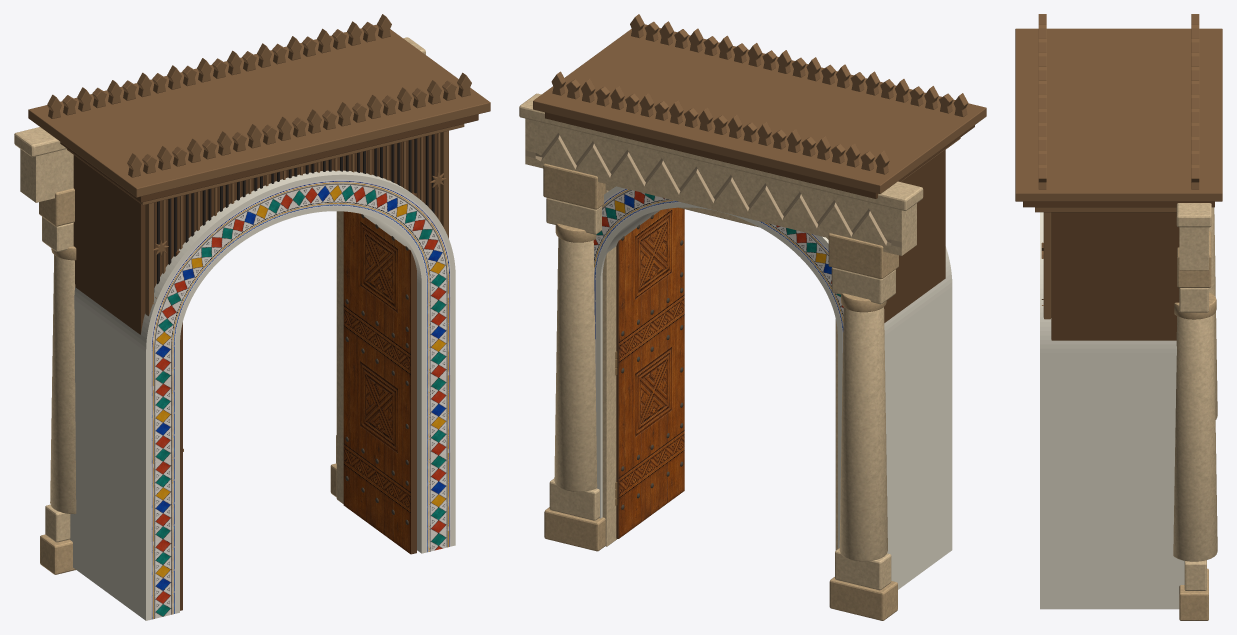
File: gate.glb
3 renders of one model, left to right at view 1: azimuth 30°, elevation 25°; view 2: azimuth 150°, elevation 25°; view 3: azimuth 270°, elevation 25°, orthographic. The views are drawn at different scales.
Visible parts, largest first — view 1: RIJAL GATE | painted continuous U fascia, REAR GATE | 07 layered cornice, diriyah_door_east, REAR GATE | 08 carved crest, REAR GATE | 01 jambs, DIRIYAH GATE | left tapered round column, REAR GATE | 06 fine timber fluting.001, REAR GATE | 05 upper spandrel, REAR GATE | 07 layered cornice.001, DIRIYAH GATE | incised zigzag lintel, DIRIYAH GATE | right wall-jamb return, REAR GATE | 06 fine timber fluting (+7 smaller); view 2: REAR GATE | 07 layered cornice, RIJAL GATE | painted continuous U fascia, diriyah_door_east, DIRIYAH GATE | incised zigzag lintel, DIRIYAH GATE | left tapered round column, REAR GATE | 08 carved crest, DIRIYAH GATE | right tapered round column, REAR GATE | 01 jambs, DIRIYAH GATE | right wall-jamb return, DIRIYAH GATE | top course, REAR GATE | 07 layered cornice.001, DIRIYAH GATE | left capital crown (+8 smaller); view 3: RIJAL GATE | painted continuous U fascia, REAR GATE | 07 layered cornice, REAR GATE | 01 jambs, DIRIYAH GATE | right tapered round column, REAR GATE | 08 carved crest, DIRIYAH GATE | incised zigzag lintel, REAR GATE | 07 layered cornice.001, DIRIYAH GATE | right stepped plinth, REAR GATE | 02 jamb mouldings, DIRIYAH GATE | top course, DIRIYAH GATE | right capital crown, DIRIYAH GATE | right capital lower (+3 smaller).
Part boxes in pixels (x1,y1,x2,y2): RIJAL GATE | painted continuous U fascia: [70, 170, 455, 620]; REAR GATE | 07 layered cornice: [28, 24, 490, 205]; diriyah_door_east: [343, 192, 416, 554]; REAR GATE | 08 carved crest: [47, 14, 471, 177]; REAR GATE | 01 jambs: [73, 131, 448, 334]; DIRIYAH GATE | left tapered round column: [50, 255, 76, 514]; REAR GATE | 06 fine timber fluting.001: [154, 134, 434, 292]; REAR GATE | 05 upper spandrel: [173, 139, 414, 255]; REAR GATE | 07 layered cornice.001: [60, 114, 478, 202]; DIRIYAH GATE | incised zigzag lintel: [20, 149, 73, 202]; DIRIYAH GATE | right wall-jamb return: [336, 211, 343, 503]; REAR GATE | 06 fine timber fluting: [162, 133, 440, 273]; REAR GATE | 07 layered cornice: [533, 24, 986, 193]; RIJAL GATE | painted continuous U fascia: [593, 186, 952, 589]; diriyah_door_east: [615, 207, 684, 538]; DIRIYAH GATE | incised zigzag lintel: [525, 118, 916, 255]; DIRIYAH GATE | left tapered round column: [839, 307, 887, 561]; REAR GATE | 08 carved crest: [551, 14, 968, 174]; DIRIYAH GATE | right tapered round column: [554, 237, 597, 491]; REAR GATE | 01 jambs: [884, 150, 945, 322]; DIRIYAH GATE | right wall-jamb return: [602, 184, 616, 546]; DIRIYAH GATE | top course: [519, 93, 923, 210]; REAR GATE | 07 layered cornice.001: [545, 112, 974, 198]; DIRIYAH GATE | left capital crown: [828, 233, 898, 279]; RIJAL GATE | painted continuous U fascia: [1040, 212, 1184, 609]; REAR GATE | 07 layered cornice: [1015, 28, 1222, 212]; REAR GATE | 01 jambs: [1051, 212, 1179, 340]; DIRIYAH GATE | right tapered round column: [1173, 314, 1217, 561]; REAR GATE | 08 carved crest: [1038, 14, 1199, 189]; DIRIYAH GATE | incised zigzag lintel: [1179, 227, 1209, 270]; REAR GATE | 07 layered cornice.001: [1023, 201, 1214, 207]; DIRIYAH GATE | right stepped plinth: [1179, 568, 1208, 620]; REAR GATE | 02 jamb mouldings: [1043, 212, 1051, 319]; DIRIYAH GATE | top course: [1176, 203, 1211, 227]; DIRIYAH GATE | right capital crown: [1177, 231, 1211, 287]; DIRIYAH GATE | right capital lower: [1179, 288, 1208, 312].
Bounding box in the file's own units: 2.92 × 3.34 × 1.39.
15 materials, 5 textured.
